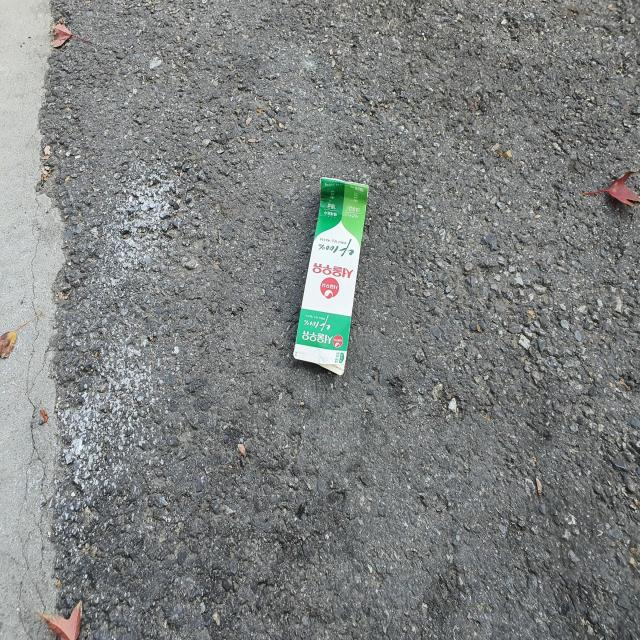paperpack: (293, 177, 369, 374)
